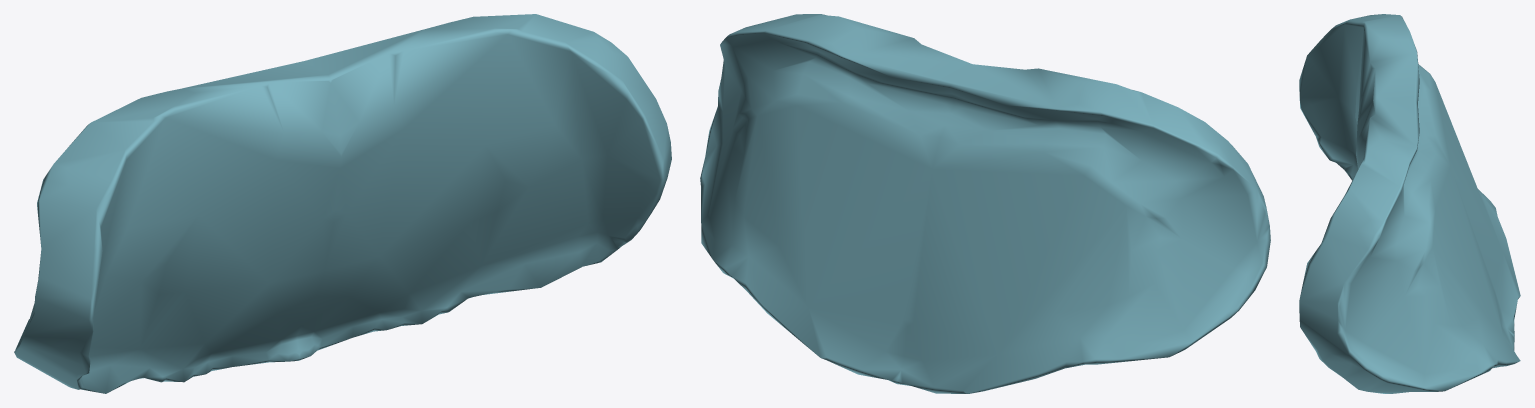
3 renders of one model, left to right at view 1: azimuth 30°, elevation 25°; view 2: azimuth 150°, elevation 25°; view 3: azimuth 270°, elevation 25°, orthographic. The views are drawn at different scales.
Visible parts, largest first — view 1: 颈5—颈6椎间盘; view 2: 颈5—颈6椎间盘; view 3: 颈5—颈6椎间盘.
Boxes of the visible parts, <box> form: 颈5—颈6椎间盘: <box>14,14,671,393</box>; 颈5—颈6椎间盘: <box>700,14,1270,393</box>; 颈5—颈6椎间盘: <box>1299,14,1520,393</box>.
Size of the model in its own units: 0.0461 by 0.0219 by 0.0174.
